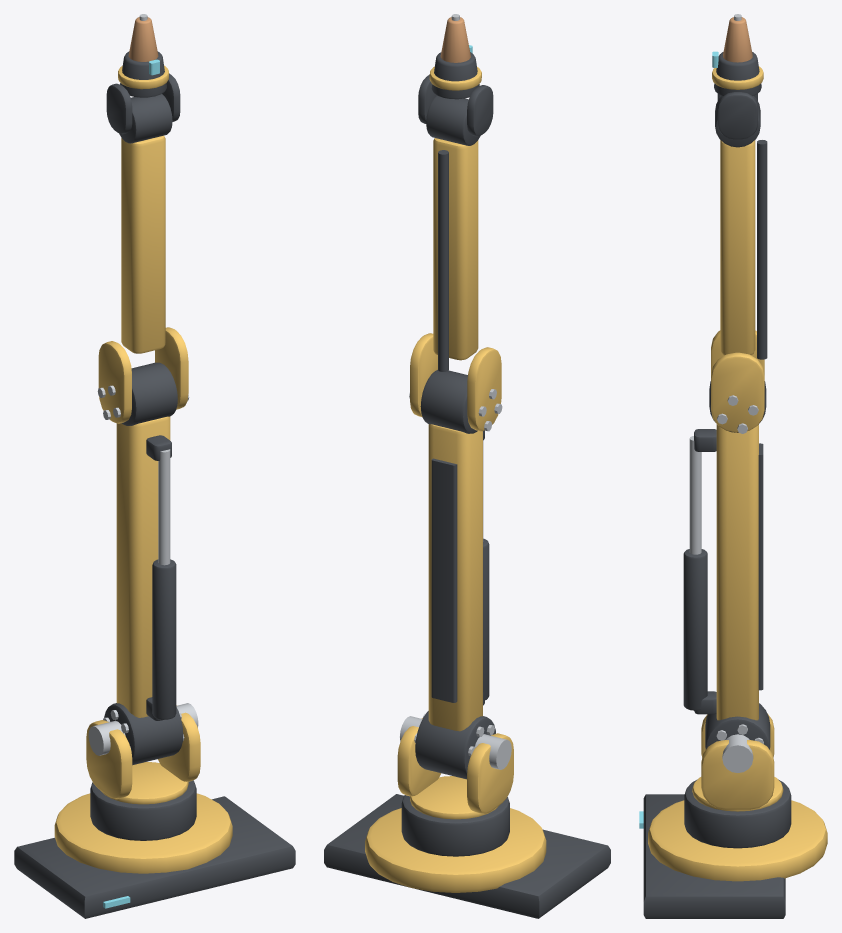
File: SM_SynthArm.fbx
The picture shows the model from 3 angles, left to right: view 1: azimuth 30°, elevation 25°; view 2: azimuth 150°, elevation 25°; view 3: azimuth 270°, elevation 25°; orthographic projection.
Parts seen in each view (by area): view 1: SynthArm_Upper, SynthMount, SynthArm_Fore, SynthArm_Turret, SynthArm_Head; view 2: SynthArm_Upper, SynthMount, SynthArm_Fore, SynthArm_Turret, SynthArm_Head; view 3: SynthArm_Upper, SynthMount, SynthArm_Fore, SynthArm_Turret, SynthArm_Head.
Part boxes in pixels (x1=…): SynthArm_Upper: x1=103, y1=362, x2=184, y2=765; SynthMount: x1=14, y1=793, x2=295, y2=918; SynthArm_Fore: x1=97, y1=94, x2=189, y2=423; SynthArm_Turret: x1=86, y1=703, x2=200, y2=840; SynthArm_Head: x1=106, y1=14, x2=180, y2=134; SynthArm_Upper: x1=414, y1=370, x2=495, y2=779; SynthMount: x1=324, y1=794, x2=610, y2=918; SynthArm_Fore: x1=409, y1=95, x2=502, y2=431; SynthArm_Turret: x1=397, y1=716, x2=513, y2=856; SynthArm_Head: x1=418, y1=14, x2=493, y2=136; SynthArm_Upper: x1=683, y1=381, x2=770, y2=749; SynthMount: x1=639, y1=794, x2=827, y2=918; SynthArm_Fore: x1=711, y1=96, x2=767, y2=433; SynthArm_Turret: x1=684, y1=713, x2=791, y2=848; SynthArm_Head: x1=712, y1=14, x2=763, y2=139.
Bounding box in the file's own units: 0.17 × 0.6508 × 0.13.
